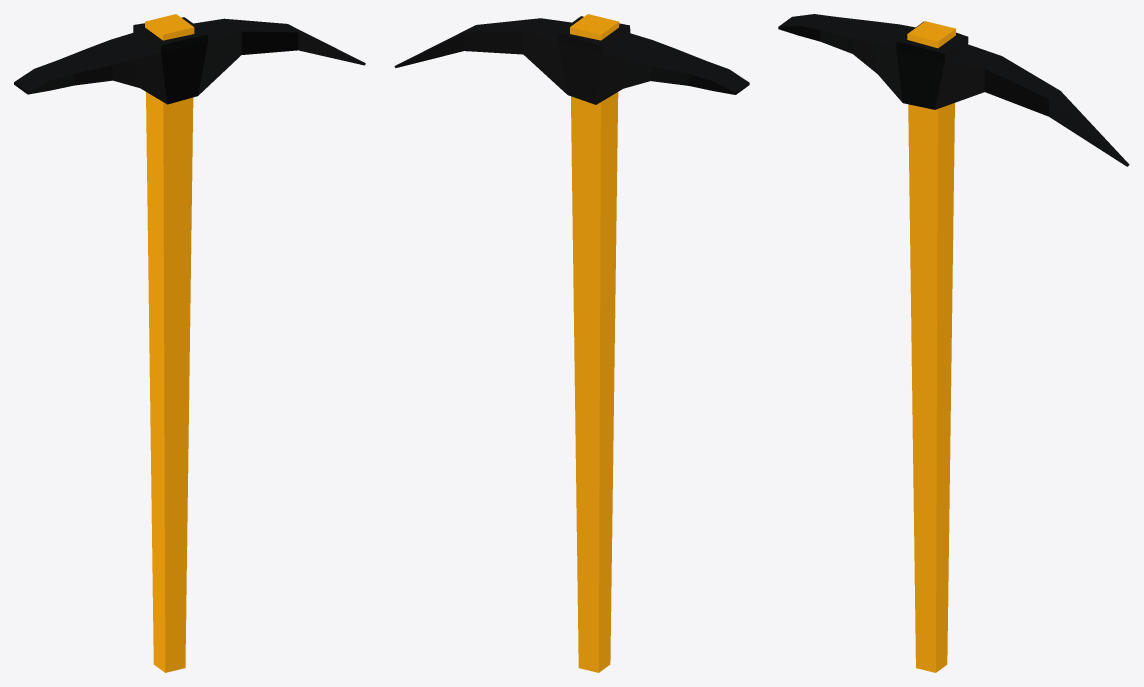
File: Pickaxe.obj
3 renders of one model, left to right at view 1: azimuth 30°, elevation 25°; view 2: azimuth 150°, elevation 25°; view 3: azimuth 330°, elevation 25°, orthographic.
Visible parts, largest first — view 1: Cube; view 2: Cube; view 3: Cube.
Part boxes in pixels (x1,y1,x2,y2): Cube: (14, 14, 365, 672); Cube: (394, 14, 749, 672); Cube: (778, 14, 1129, 672).
Bounding box in the file's own units: 0.5078 × 0.9 × 0.0704.
